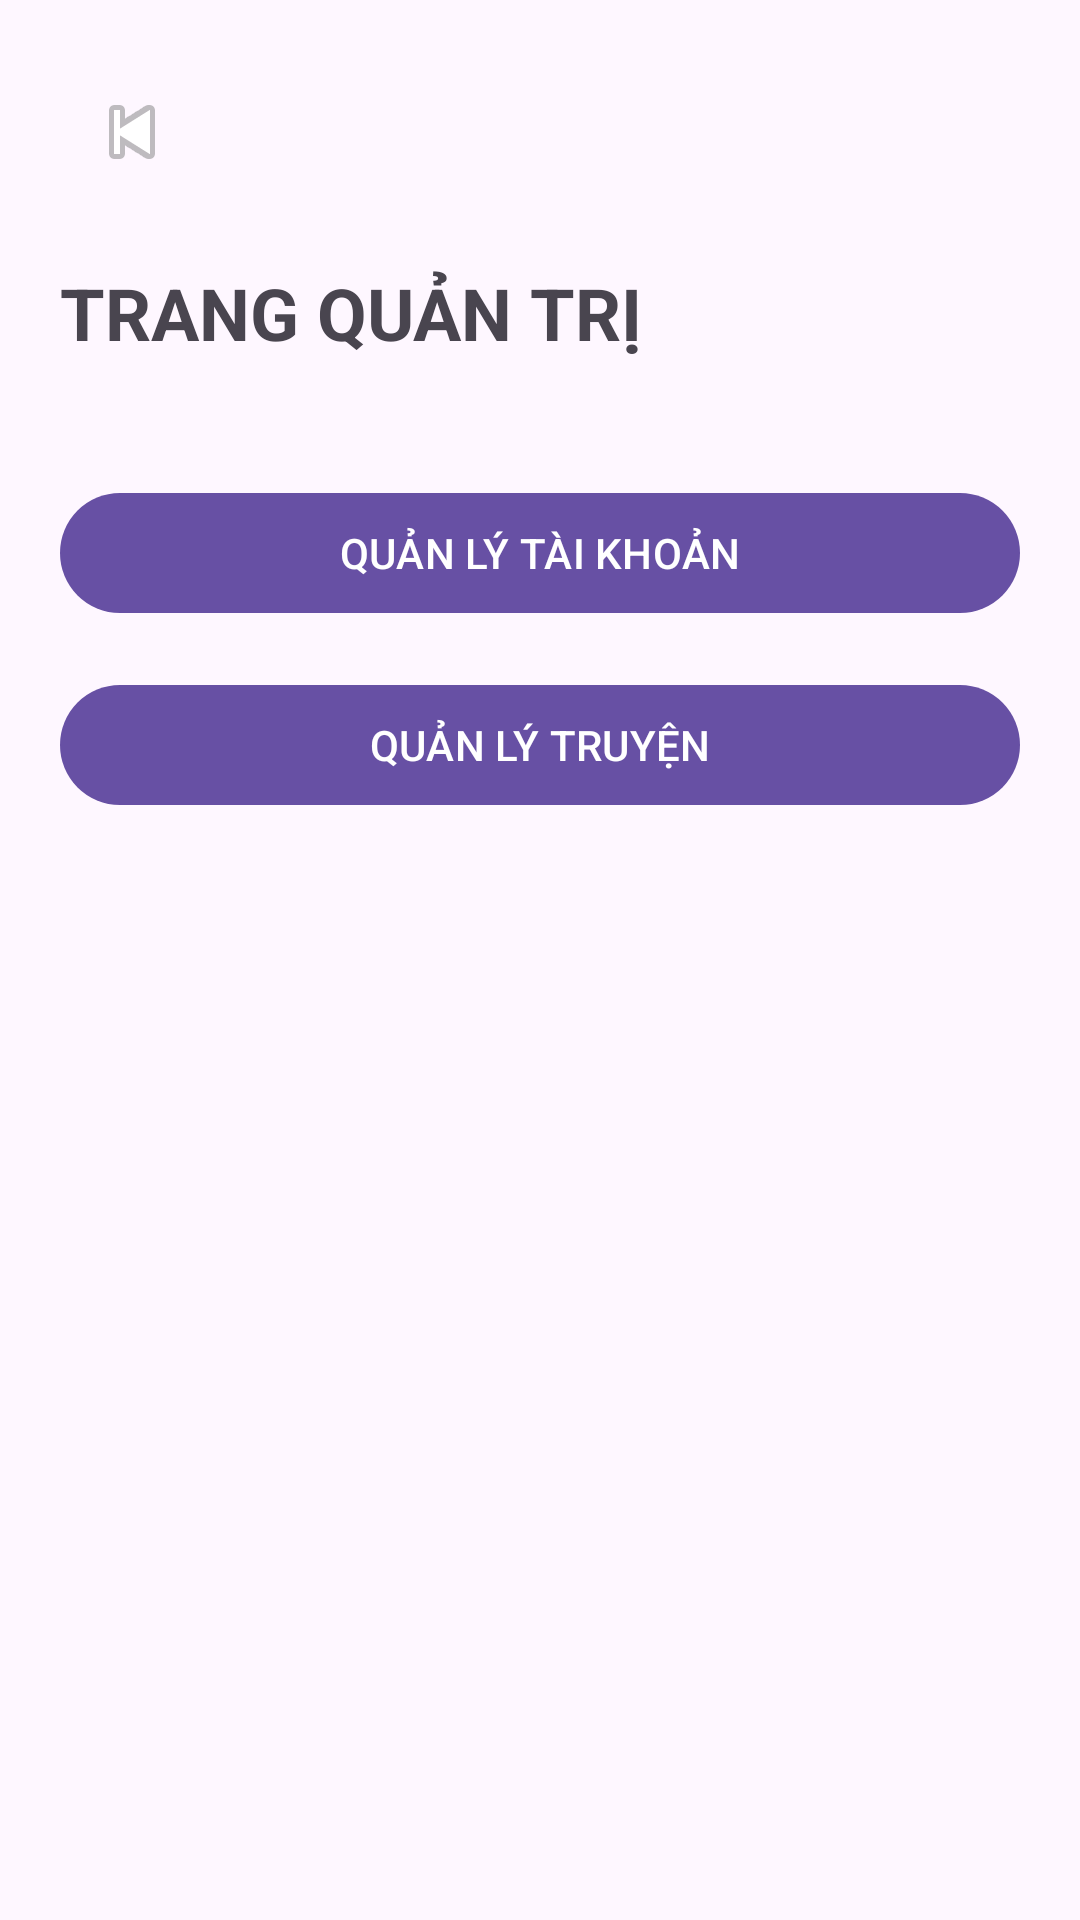

Point at icon controls on the screen. Image size 1080×1920, points as point (x, y).
Quay lại: point (132, 132)
